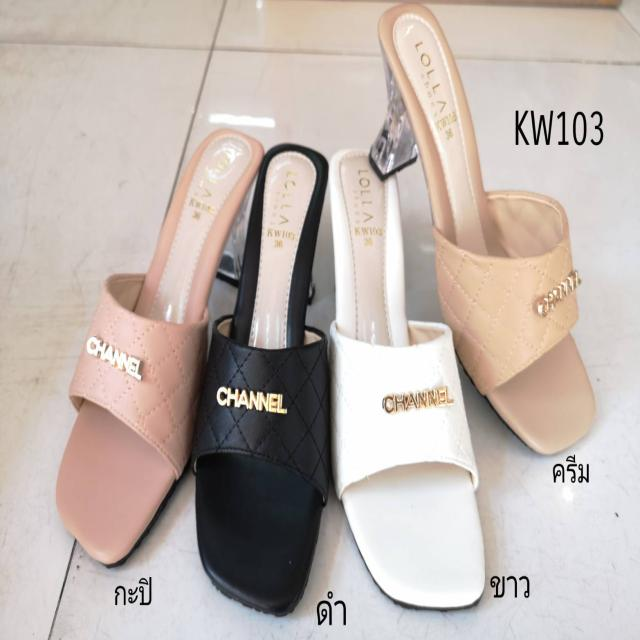black: (198, 144, 332, 616)
cream: (377, 8, 596, 456)
kapi: (56, 126, 265, 562)
white: (327, 145, 494, 608)
